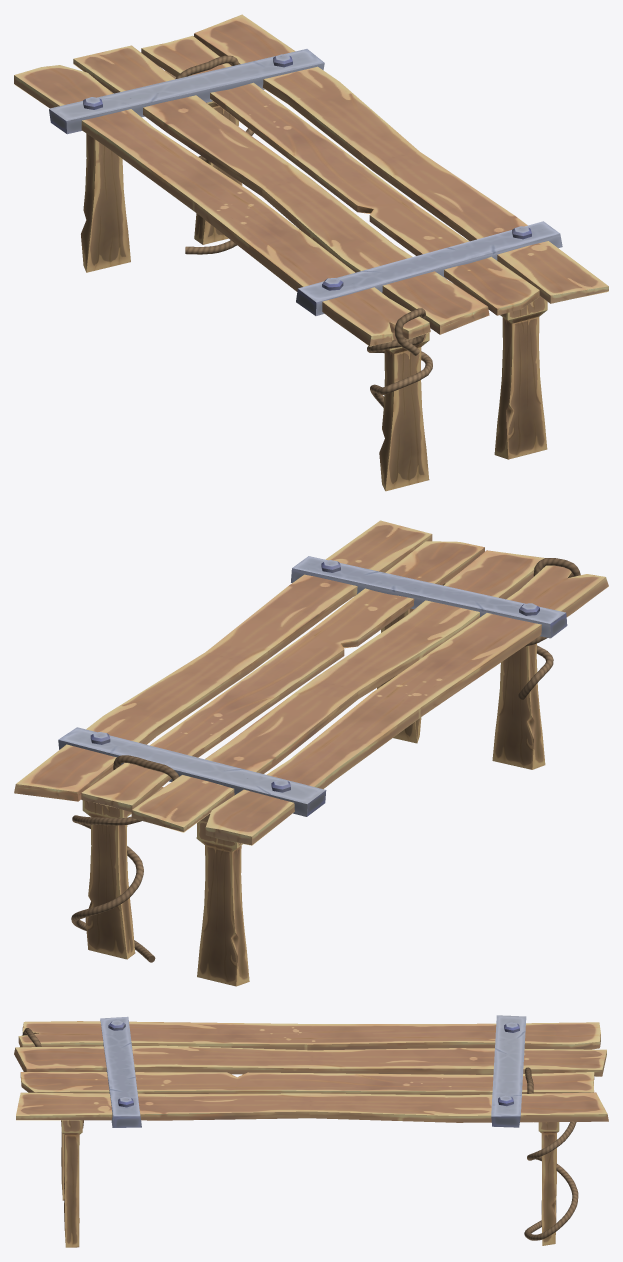
The model's file is SM_Table_03.fbx.
3 renders of one model, top to bottom at view 1: azimuth 30°, elevation 25°; view 2: azimuth 150°, elevation 25°; view 3: azimuth 270°, elevation 25°, orthographic. The views are drawn at different scales.
Visible parts, largest first — view 1: SM_Table_03_LOD0; view 2: SM_Table_03_LOD0; view 3: SM_Table_03_LOD0.
Part boxes in pixels (bbox=[...]): SM_Table_03_LOD0: bbox=[14, 14, 608, 491]; SM_Table_03_LOD0: bbox=[14, 520, 608, 986]; SM_Table_03_LOD0: bbox=[14, 1015, 608, 1247].
Bounding box in the file's own units: 115 × 285 × 84.09.
Materials: 1 (1 with a texture image).
